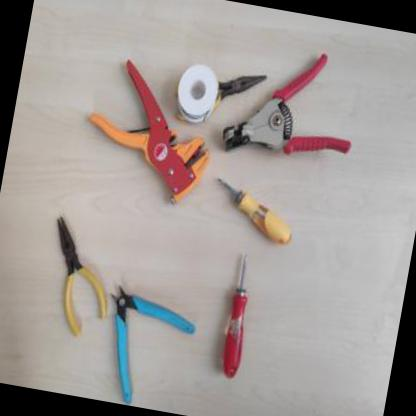Screwdriver: (203, 168, 301, 246), (209, 244, 262, 384)
